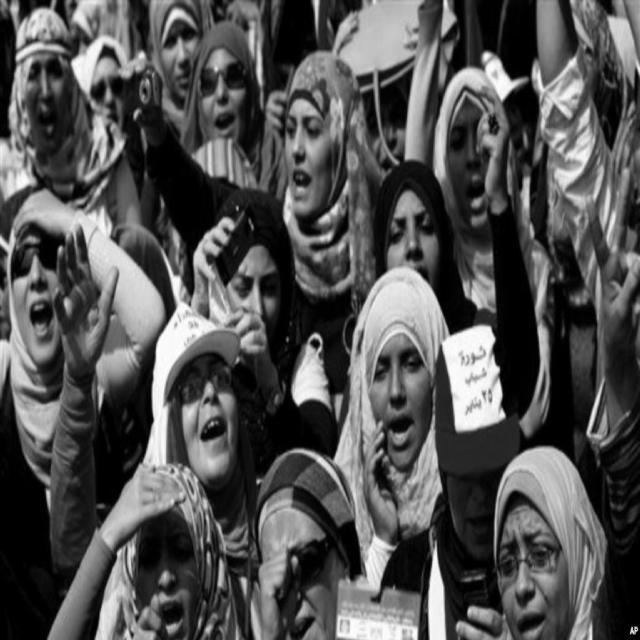person: (135, 304, 260, 503), (101, 462, 231, 640), (282, 49, 364, 276), (356, 258, 429, 509), (252, 447, 346, 640), (494, 439, 579, 640), (434, 342, 511, 563), (4, 180, 72, 393), (190, 21, 272, 178), (378, 154, 447, 315), (204, 216, 292, 342), (449, 70, 503, 258), (13, 17, 68, 166), (74, 32, 137, 152), (146, 1, 206, 117)
